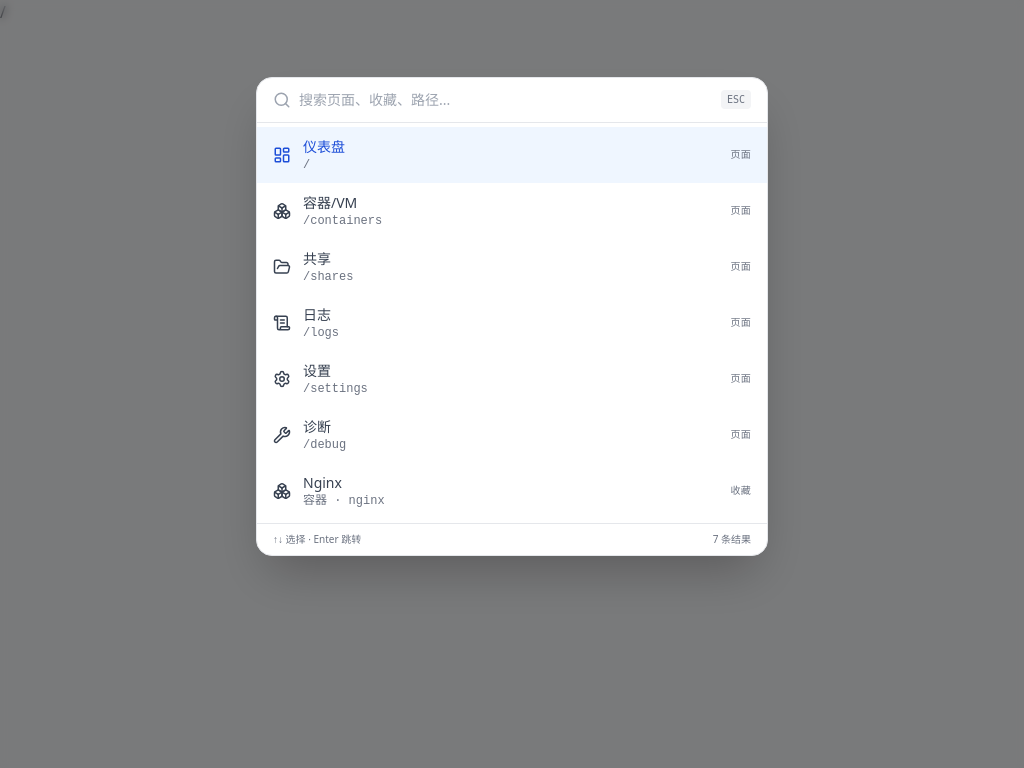
it: GlobalSearch › container 收藏项保留 ?focus= 跳法
Click the text "Nginx" at (322, 482), box [303,473,342,492]
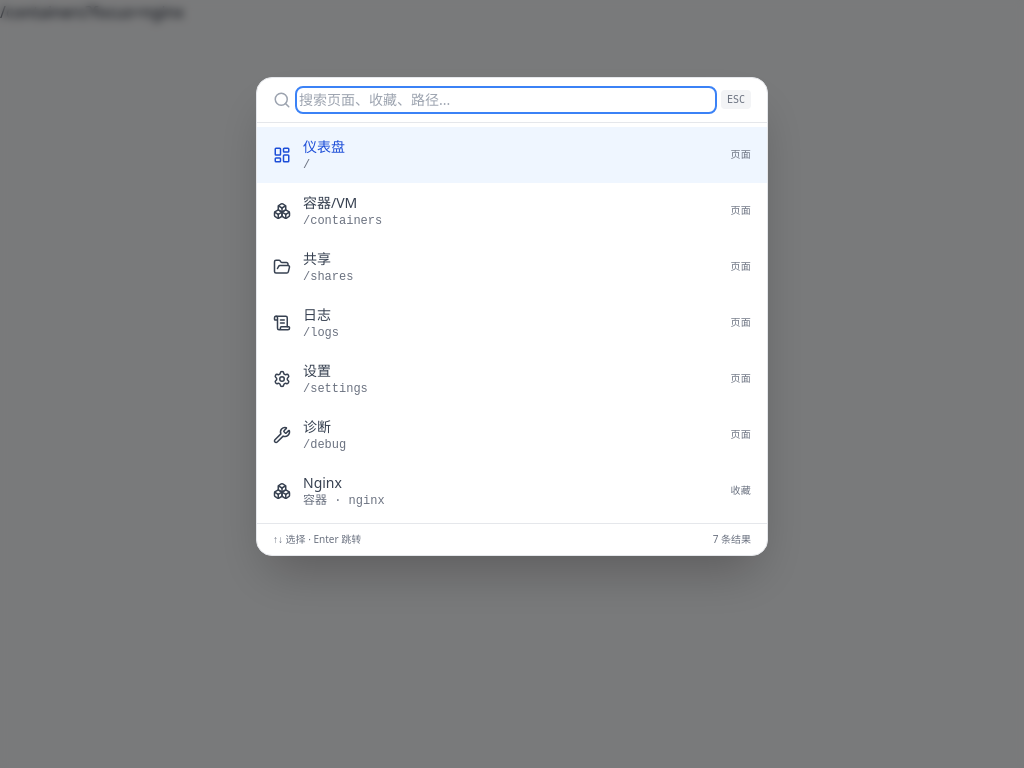
Expected: the text with test id "loc" reads "/containers?focus=nginx", [0,1,184,23]
